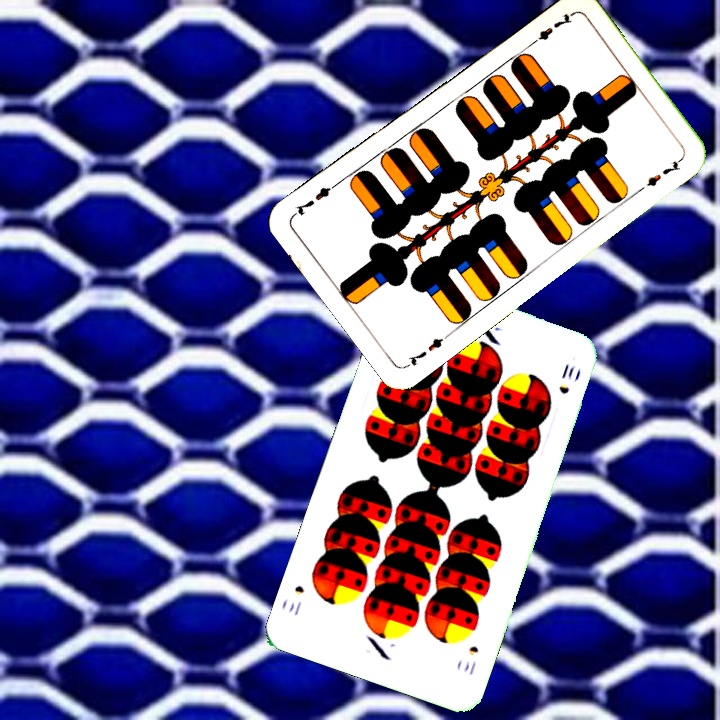E7: (524, 9, 575, 50), (402, 329, 453, 370)
S10: (460, 641, 482, 678)
